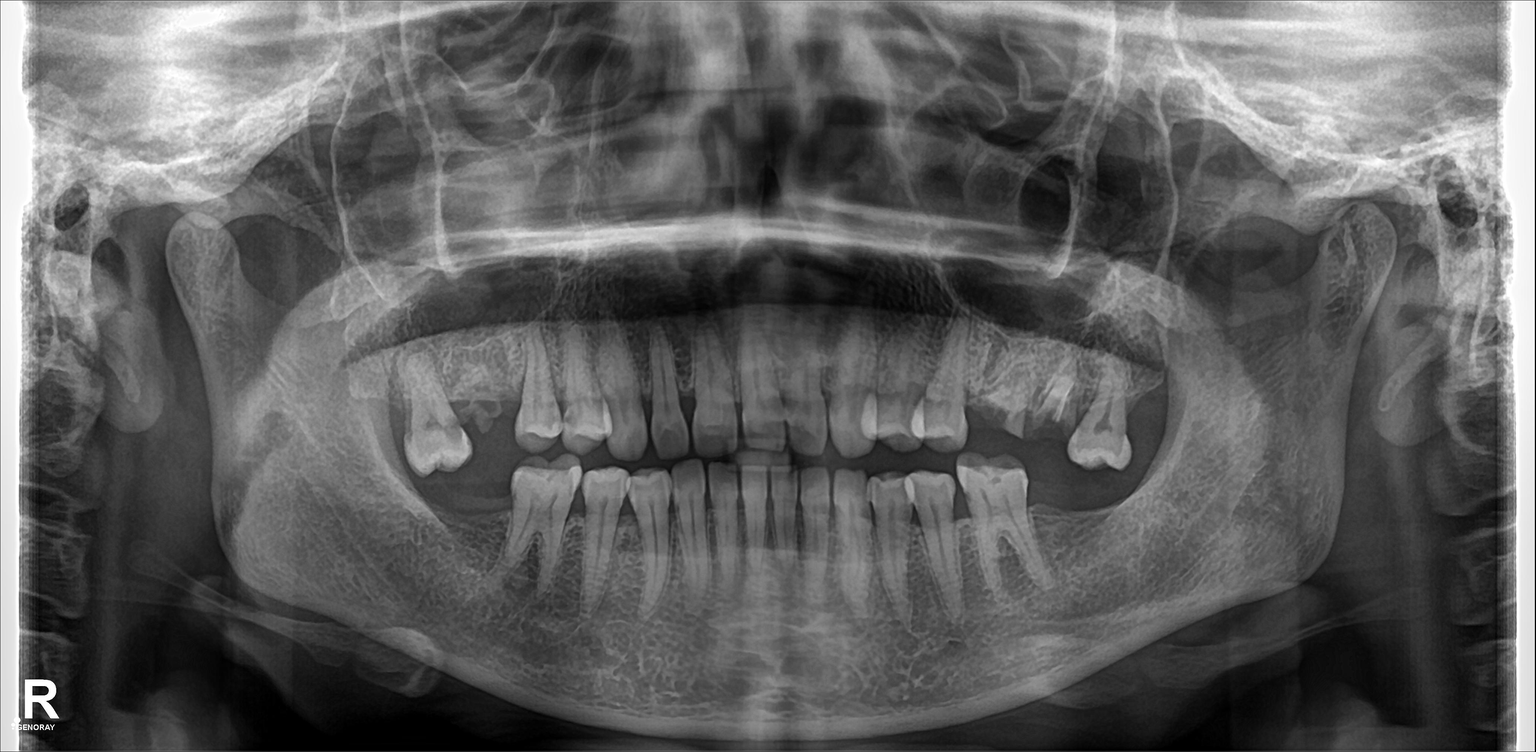Dental Caries: (462, 389, 502, 431), (698, 424, 731, 453), (637, 391, 660, 423)
Missing Tooth: (1119, 357, 1178, 447), (1022, 443, 1071, 550), (365, 352, 410, 462), (464, 471, 512, 569), (1073, 477, 1129, 559), (425, 469, 465, 576)
Retained Root: (968, 339, 1019, 444), (451, 365, 517, 441), (1030, 341, 1076, 425)
